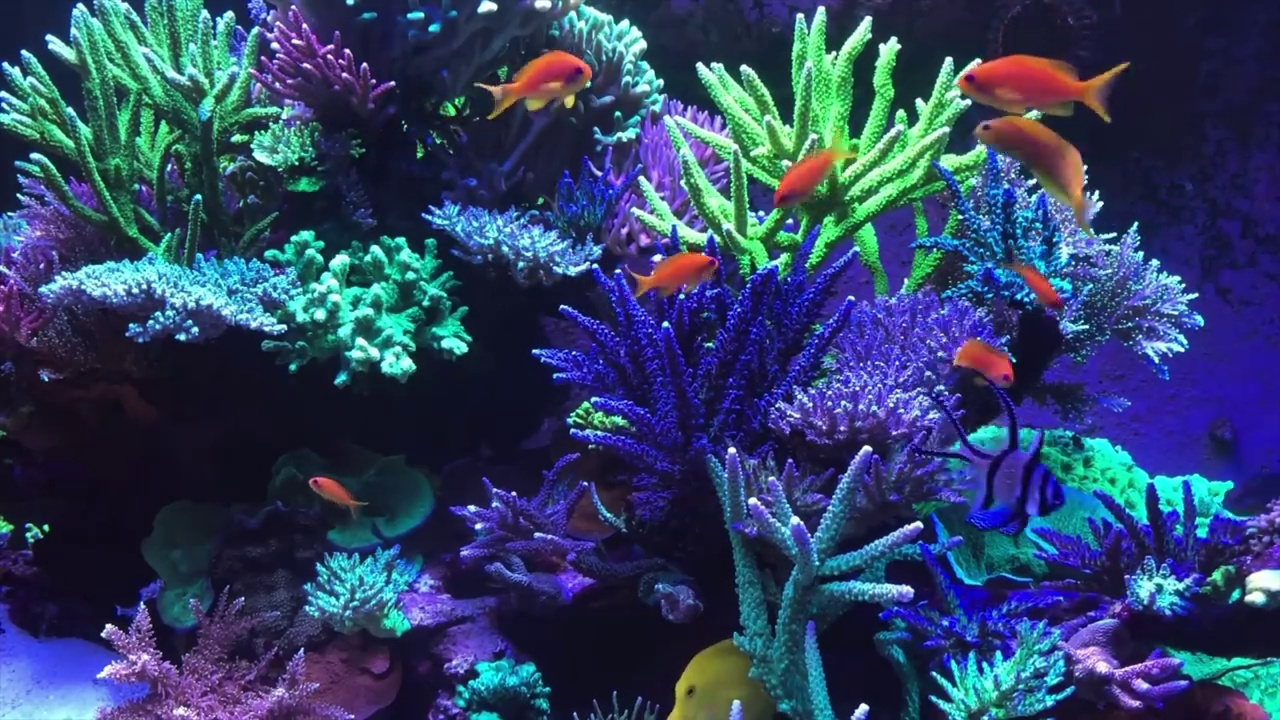fish: (910, 386, 1069, 539), (974, 113, 1090, 231), (958, 53, 1129, 124), (668, 639, 789, 720), (474, 50, 590, 122), (774, 134, 854, 209), (627, 249, 718, 303), (1006, 259, 1066, 315), (951, 339, 1017, 388), (308, 475, 370, 522)
